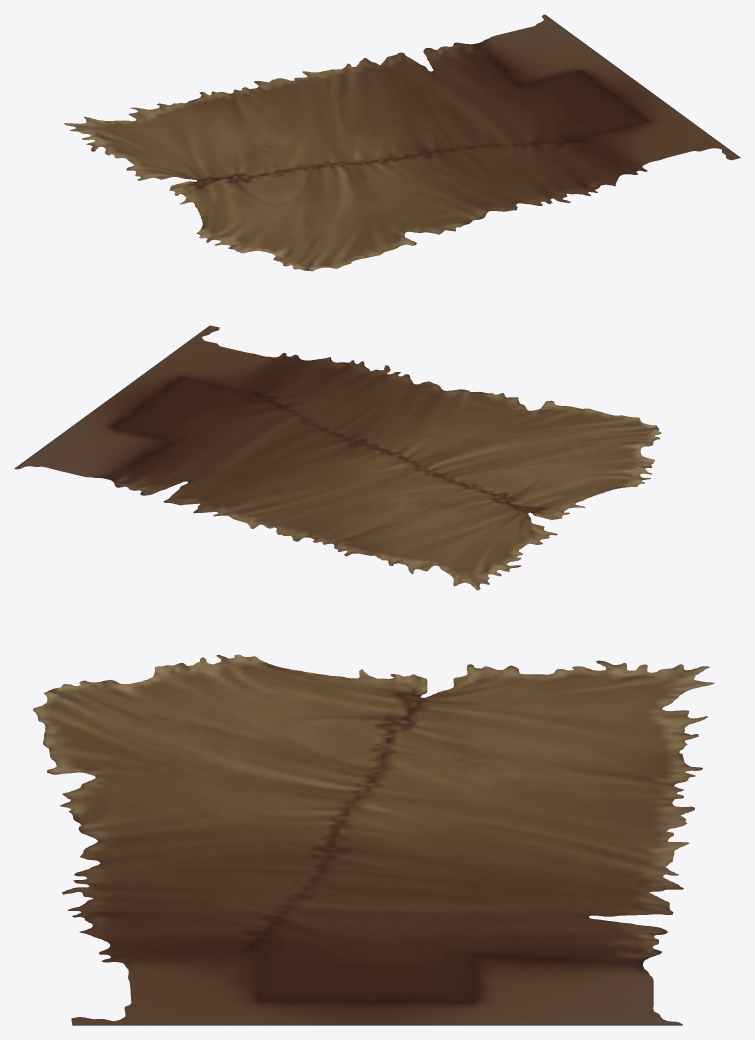
The model's file is Anmaodao_shoupi02.FBX.
The picture shows the model from 3 angles, top to bottom: view 1: azimuth 30°, elevation 25°; view 2: azimuth 150°, elevation 25°; view 3: azimuth 270°, elevation 25°; orthographic projection. The views are drawn at different scales.
Parts seen in each view (by area): view 1: Anmaodao_shoupi02; view 2: Anmaodao_shoupi02; view 3: Anmaodao_shoupi02.
Part boxes in pixels (x1,y1,x2,y2): Anmaodao_shoupi02: [64, 14, 740, 271]; Anmaodao_shoupi02: [14, 325, 661, 590]; Anmaodao_shoupi02: [33, 654, 714, 1025].
Size of the model in its own units: 43.46 by 34.28 by 0.
